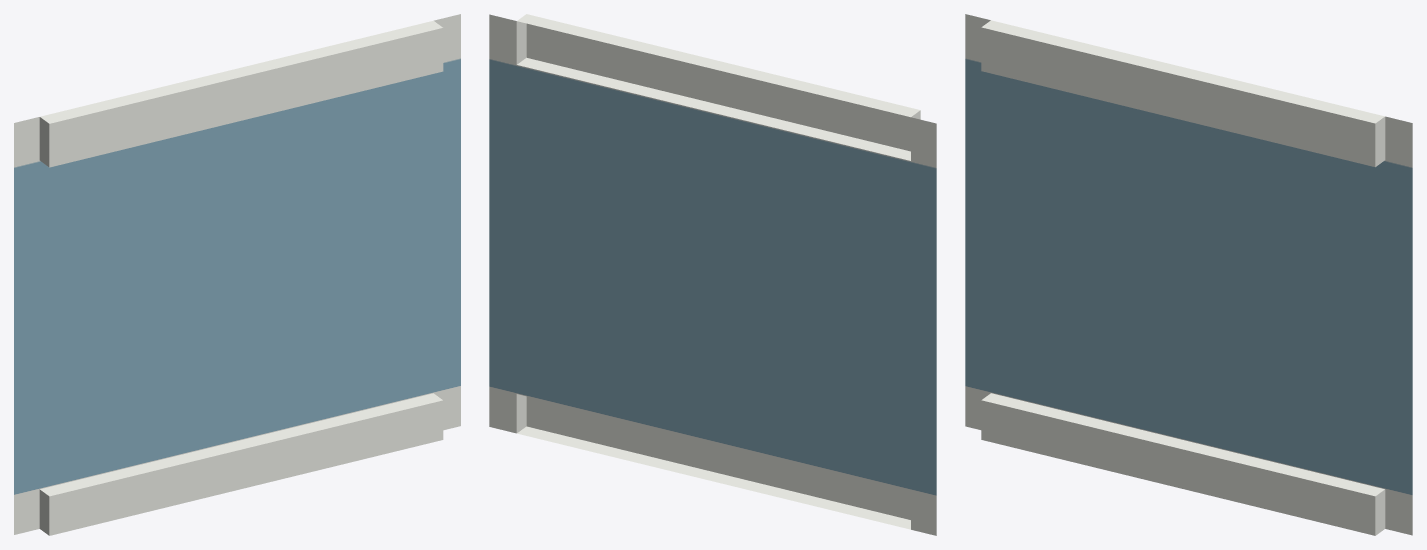
Rendered from Wall.fbx.
The picture shows the model from 3 angles, left to right: view 1: azimuth 30°, elevation 25°; view 2: azimuth 150°, elevation 25°; view 3: azimuth 330°, elevation 25°; orthographic projection.
Parts seen in each view (by area): view 1: Plane; view 2: Plane; view 3: Plane.
Boxes of the visible parts, bbox=[...] form: Plane: bbox=[14, 14, 460, 535]; Plane: bbox=[489, 14, 936, 535]; Plane: bbox=[965, 14, 1412, 535].
Bounding box in the file's own units: 298 × 262 × 11.22.
